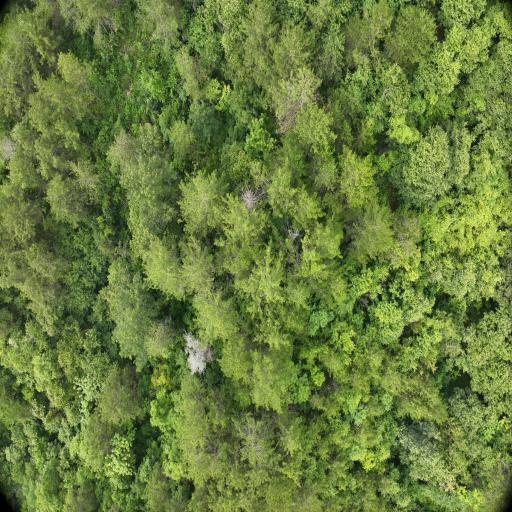dead-tree: (189, 342, 208, 372), (245, 189, 266, 206)
